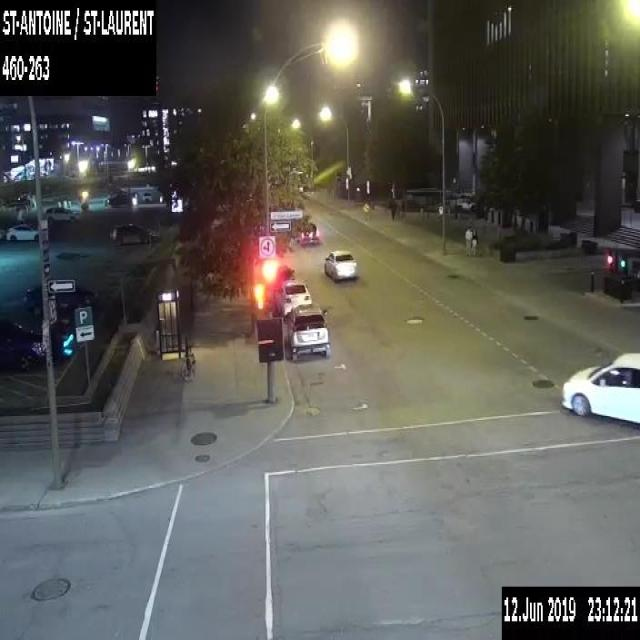pedestrian: (464, 226, 472, 256), (470, 228, 478, 256), (389, 197, 396, 221)
vehicle: (561, 350, 639, 422), (287, 304, 330, 362), (24, 281, 96, 315), (0, 316, 45, 370), (274, 277, 312, 319), (109, 223, 160, 245), (324, 249, 357, 280), (45, 205, 79, 222), (6, 222, 38, 240), (106, 189, 138, 207), (295, 221, 318, 245), (142, 190, 152, 202)
